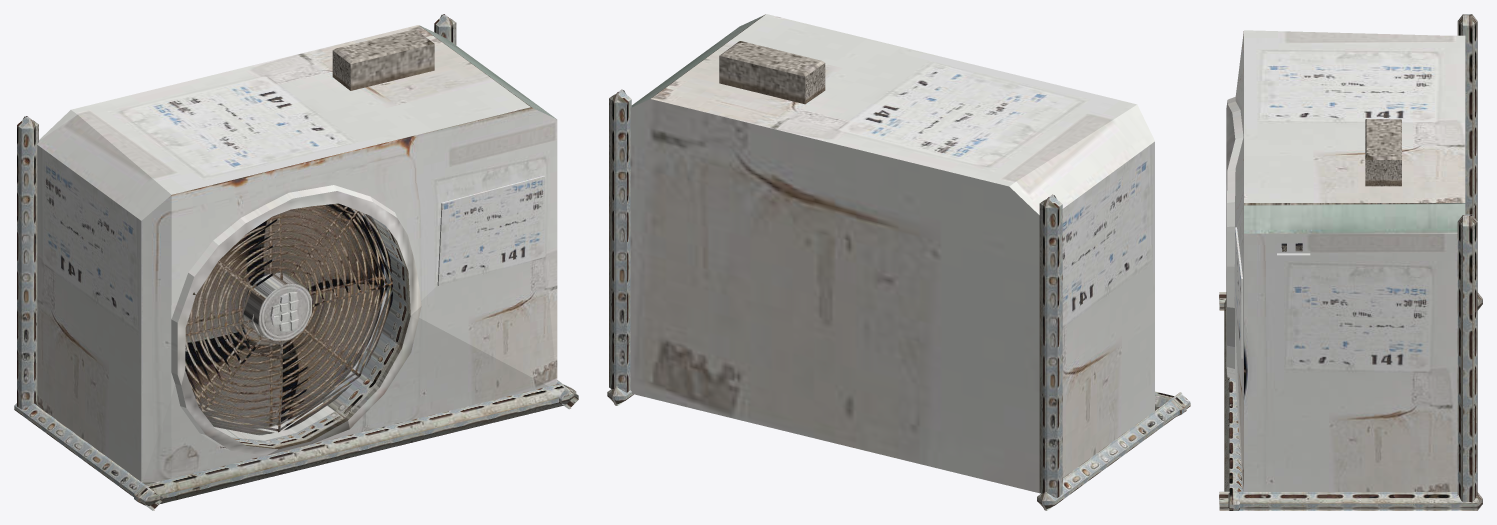
Rendered from ac-air-conditioner-low-poly.fbx.
The picture shows the model from 3 angles, left to right: view 1: azimuth 30°, elevation 25°; view 2: azimuth 150°, elevation 25°; view 3: azimuth 270°, elevation 25°; orthographic projection. The views are drawn at different scales.
Visible parts, largest first — view 1: Cube; view 2: Cube; view 3: Cube.
Boxes of the visible parts, x1,y1,x2,y2 form: Cube: (14, 14, 578, 510); Cube: (607, 14, 1190, 510); Cube: (1219, 14, 1482, 510).
Size of the model in its own units: 449 by 322 by 238.
Materials: 1 (1 with a texture image).
